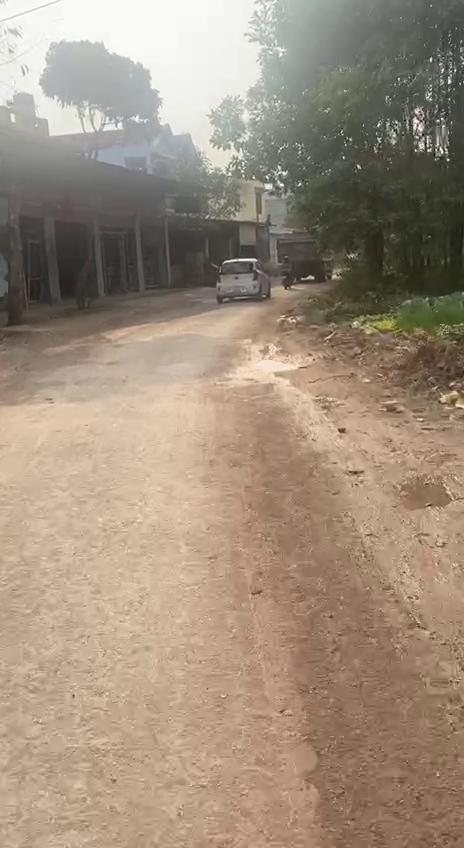pothole: (392, 466, 462, 518)
